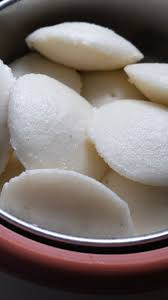idli: (1, 19, 168, 241)
